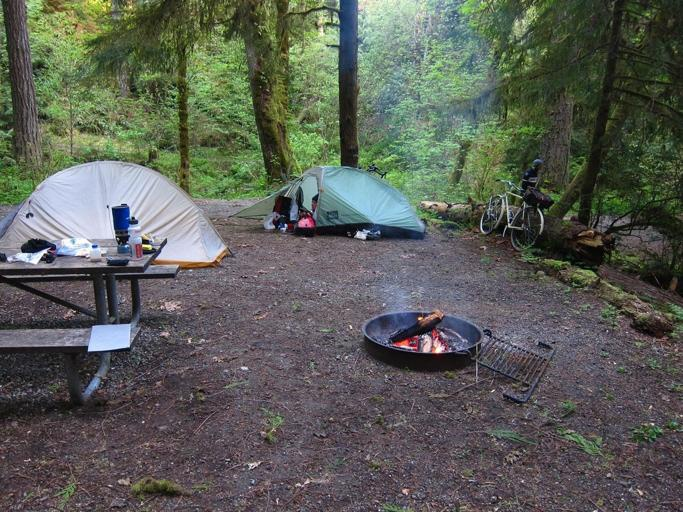non-vehicle: (474, 178, 551, 252), (354, 160, 387, 180)
